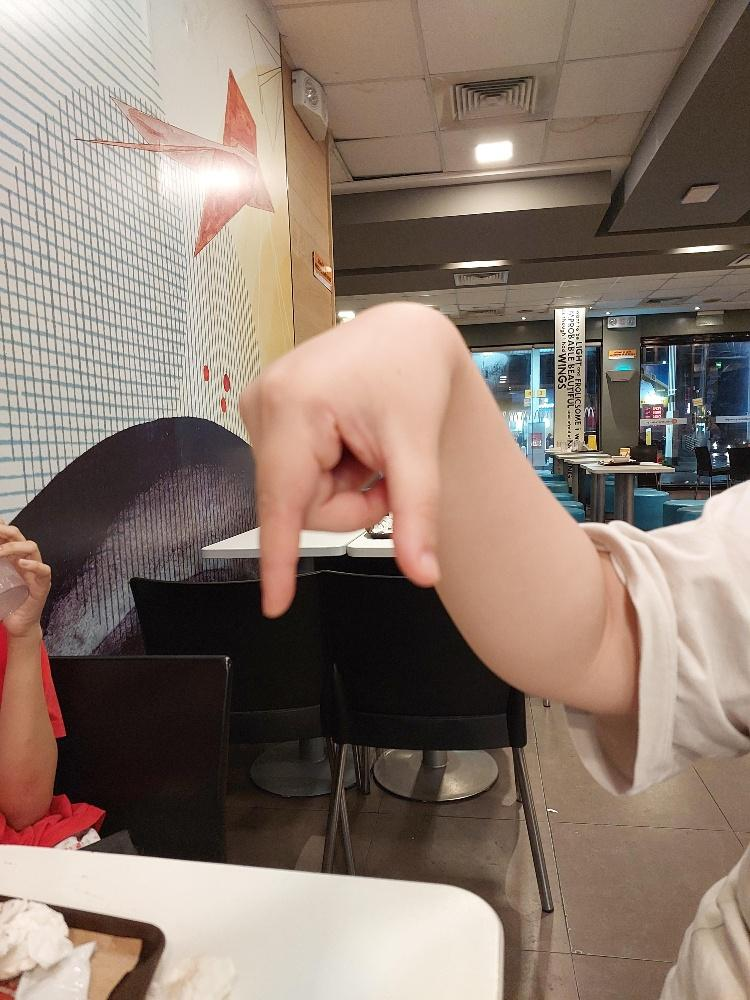q: (235, 298, 449, 618)
